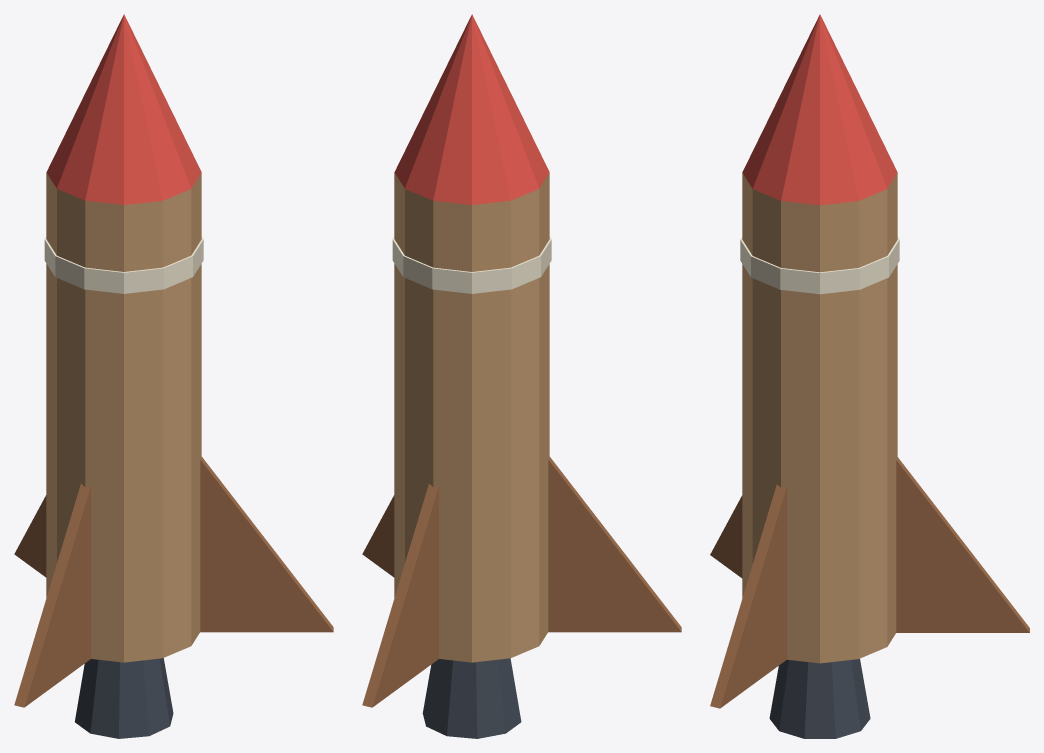
The model's file is vehicle_model_rockets.glb.
3 views of the same model, side by side, from view 1: azimuth 30°, elevation 25°; view 2: azimuth 150°, elevation 25°; view 3: azimuth 270°, elevation 25° (orthographic).
Visible parts, largest first — view 1: vehicle_model_rockets; view 2: vehicle_model_rockets; view 3: vehicle_model_rockets.
Part boxes in pixels (<box>): vehicle_model_rockets: <box>14,14,333,738</box>; vehicle_model_rockets: <box>362,14,681,738</box>; vehicle_model_rockets: <box>710,14,1029,738</box>.
Bounding box in the file's own units: 0.9503 × 2 × 0.823.
